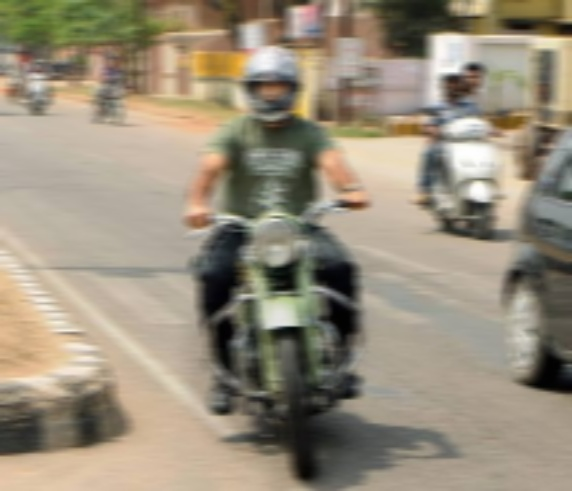Vehicle: (174, 193, 371, 485), (504, 126, 572, 401), (413, 109, 501, 241), (88, 79, 132, 130), (21, 65, 62, 119), (6, 64, 23, 106)
